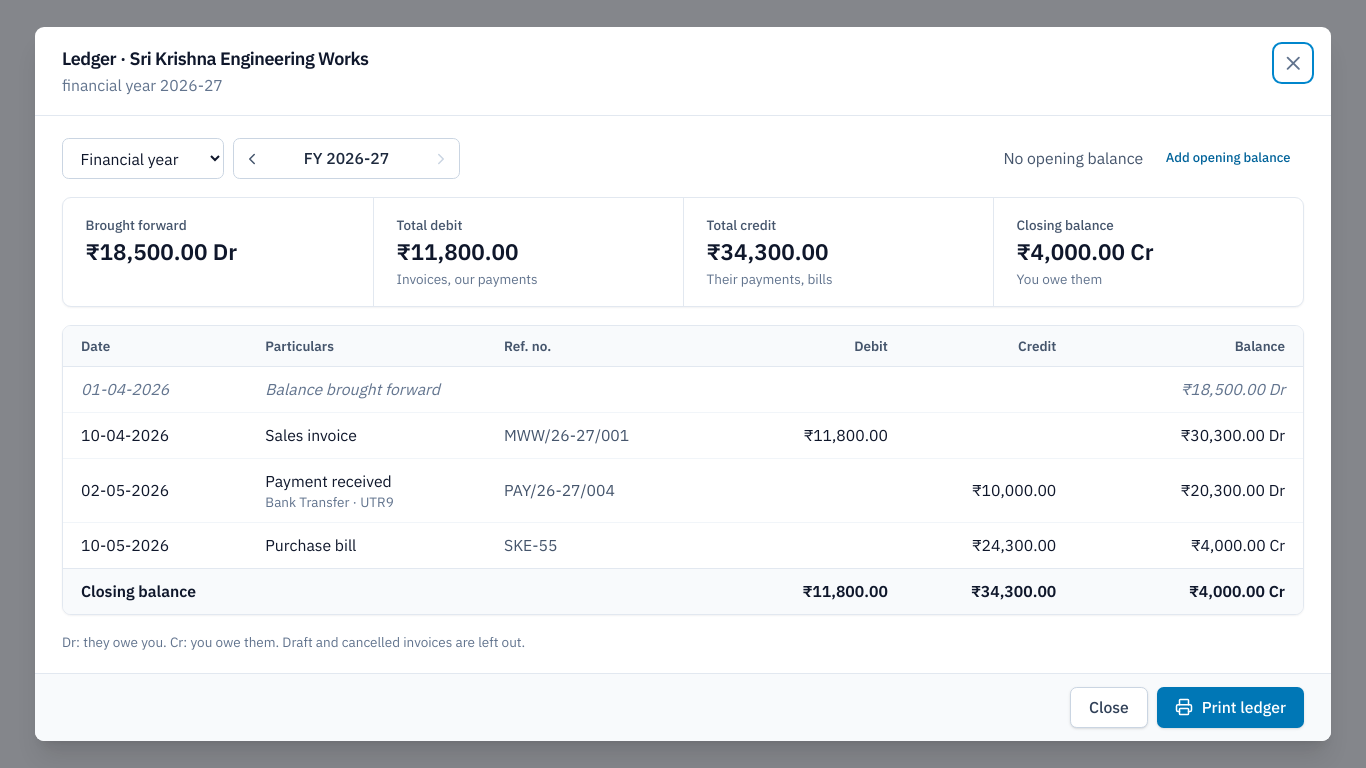
Test: LedgerModal › prints the ledger for the same period
Expected: the text "MWW/26-27/001" is shown, x1=504 y1=413 x2=738 y2=459
What coordinates should you click on to do the following:
click the button "Print ledger"
I would click on:
 (1230, 707)
Its box is x1=1157 y1=687 x2=1304 y2=728.
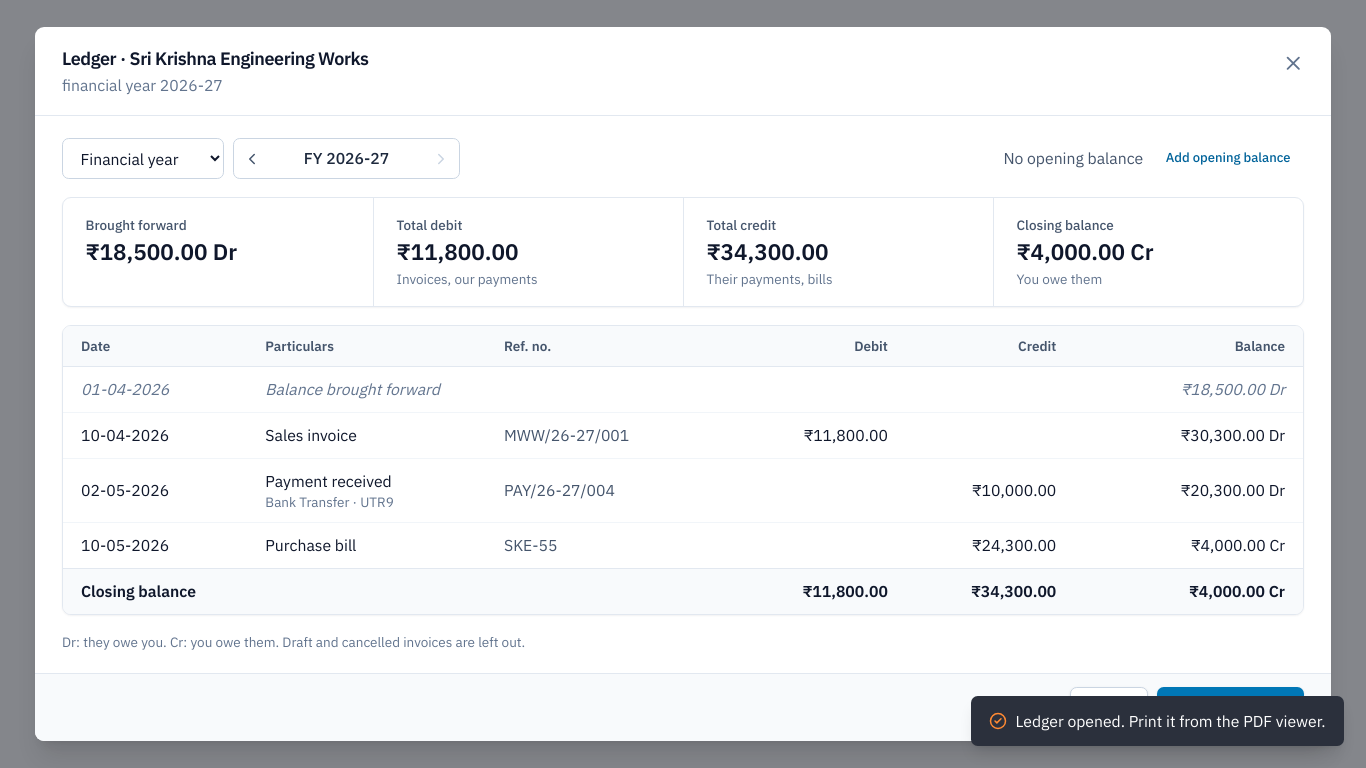
Expected: the text "Ledger opened. Print it from the PDF viewer." is shown, x1=1016 y1=710 x2=1326 y2=732
